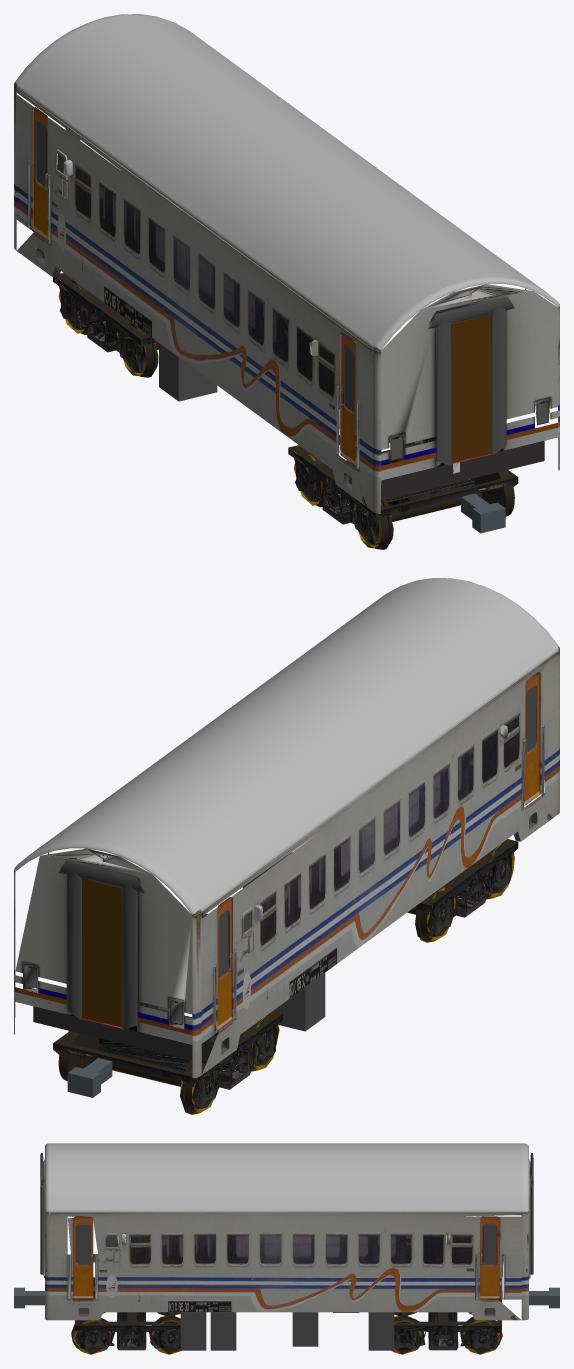
The model's file is passenger-economy-medium.glb.
3 renders of one model, top to bottom at view 1: azimuth 30°, elevation 25°; view 2: azimuth 150°, elevation 25°; view 3: azimuth 270°, elevation 25°, orthographic. The views are drawn at different scales.
Parts seen in each view (by area): view 1: passenger-body, rail-bogie-1, rail-bogie--1, passenger-door--1--1, passenger-door--1-1, rail-coupler-1, rail-wheel-coach-3-1, rail-wheel-coach-1--1, rail-wheel-coach-3--1; view 2: passenger-body, rail-bogie--1, rail-bogie-1, passenger-door--1--1, passenger-door--1-1, rail-coupler--1, rail-wheel-coach-0-1, rail-wheel-coach-2--1; view 3: passenger-body, rail-bogie--1, rail-bogie-1, passenger-door-1--1, passenger-door-1-1, rail-coupler--1, rail-coupler-1, rail-wheel-coach-0-1, rail-wheel-coach-3-1, rail-wheel-coach-2-1, rail-wheel-coach-1-1.
Boxes of the visible parts, x1,y1,x2,y2 form: passenger-body: (14, 14, 559, 513); rail-bogie-1: (288, 435, 518, 543); rail-bogie--1: (53, 273, 158, 371); passenger-door--1--1: (28, 103, 51, 244); passenger-door--1-1: (336, 329, 359, 467); rail-coupler-1: (461, 493, 505, 533); rail-wheel-coach-3-1: (474, 470, 514, 516); rail-wheel-coach-1--1: (118, 320, 158, 377); rail-wheel-coach-3--1: (353, 500, 393, 549); passenger-body: (14, 578, 559, 1078); rail-bogie--1: (53, 1004, 282, 1108); rail-bogie-1: (407, 839, 518, 936); passenger-door--1--1: (213, 893, 236, 1032); passenger-door--1-1: (522, 668, 544, 805); rail-coupler--1: (67, 1058, 112, 1097); rail-wheel-coach-0-1: (58, 1031, 99, 1080); rail-wheel-coach-2--1: (415, 884, 455, 942); passenger-body: (40, 1143, 533, 1350); rail-bogie--1: (394, 1286, 501, 1350); rail-bogie-1: (75, 1294, 180, 1350); passenger-door-1--1: (475, 1216, 506, 1299); passenger-door-1-1: (68, 1216, 98, 1299); rail-coupler--1: (529, 1287, 559, 1308); rail-coupler-1: (14, 1287, 44, 1308); rail-wheel-coach-0-1: (460, 1317, 502, 1354); rail-wheel-coach-3-1: (71, 1318, 112, 1354); rail-wheel-coach-2-1: (149, 1315, 181, 1354); rail-wheel-coach-1-1: (391, 1315, 424, 1354).
Size of the model in its own units: 3.05 by 4.1 by 11.06.
Materials: 4 (3 with a texture image).
